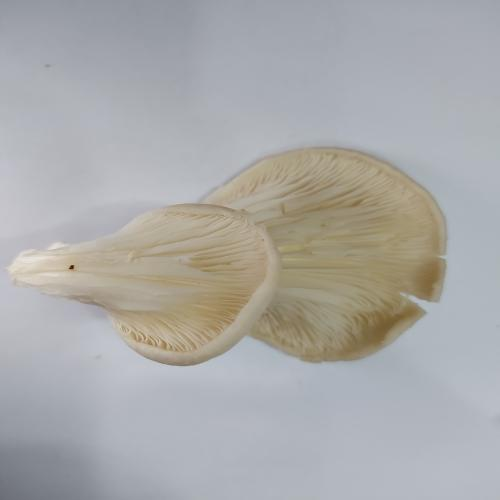Oyster Mushroom: (5, 202, 282, 367)
